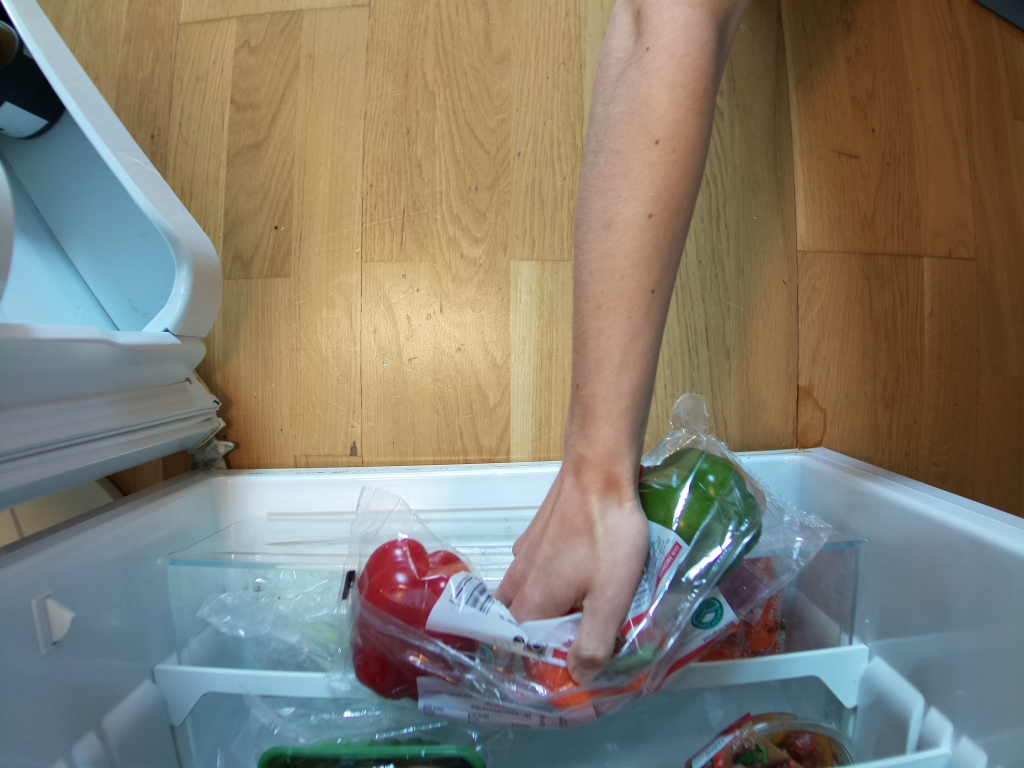pepper: (352, 540, 484, 695), (636, 449, 764, 587), (529, 616, 669, 716)
